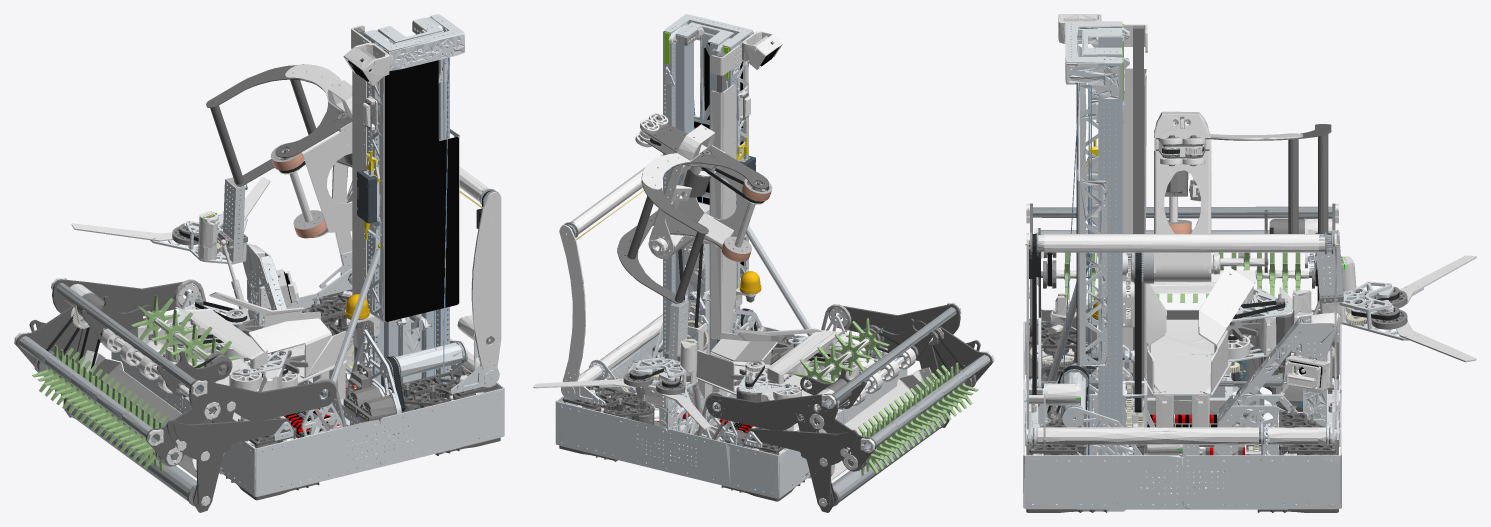
The model's file is sublime-1678.glb.
3 renders of one model, left to right at view 1: azimuth 30°, elevation 25°; view 2: azimuth 150°, elevation 25°; view 3: azimuth 270°, elevation 25°, orthographic. The views are drawn at different scales.
Visible parts, largest first — view 1: frame, intake, elevator-stage, effector, algae-intake, climber, restored-tube:1678-25-P-0710, restored-tube:1678-25-P-0701, restored-tube:1678-25-P-0702; view 2: frame, intake, effector, algae-intake, climber, restored-tube:1678-25-P-0702 (×2), elevator-stage, restored-tube:1678-25-P-0701; view 3: frame, algae-intake, effector, intake, climber, restored-tube:1678-25-P-0701, elevator-stage, carriage, restored-tube:1678-25-P-0702.
Boxes of the visible parts, x1,y1,x2,y2 form: frame: [111, 14, 504, 500]; intake: [14, 278, 346, 512]; elevator-stage: [351, 25, 459, 321]; effector: [206, 64, 352, 238]; algae-intake: [317, 162, 501, 393]; climber: [71, 177, 299, 337]; restored-tube:1678-25-P-0710: [363, 33, 383, 384]; restored-tube:1678-25-P-0701: [430, 17, 449, 383]; restored-tube:1678-25-P-0702: [377, 30, 398, 387]; frame: [555, 14, 907, 501]; intake: [694, 302, 994, 512]; effector: [617, 113, 772, 303]; algae-intake: [559, 154, 662, 419]; climber: [533, 300, 752, 448]; restored-tube:1678-25-P-0702 (×2): [675, 35, 727, 353]; elevator-stage: [694, 35, 748, 288]; restored-tube:1678-25-P-0701: [663, 27, 680, 356]; frame: [1023, 14, 1341, 512]; algae-intake: [1025, 232, 1338, 482]; effector: [1128, 111, 1331, 283]; intake: [1026, 203, 1338, 424]; climber: [1236, 230, 1476, 427]; restored-tube:1678-25-P-0701: [1098, 58, 1122, 455]; elevator-stage: [1076, 24, 1147, 365]; carriage: [1096, 252, 1134, 327]; restored-tube:1678-25-P-0702: [1098, 51, 1122, 445].
Size of the model in its own units: 0.9457 by 1.04 by 0.9576.
